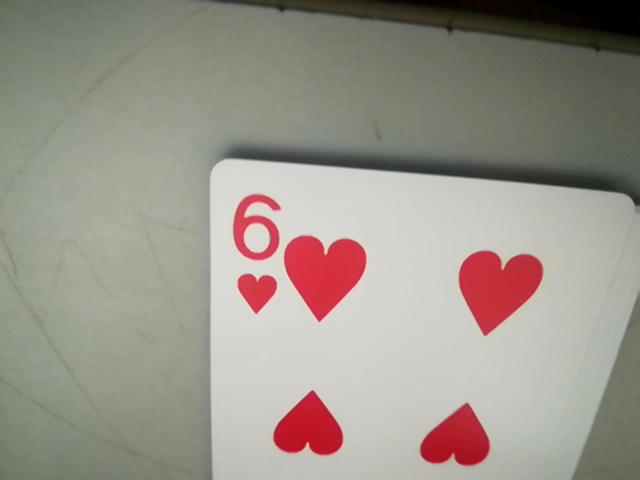hx 6: (225, 195, 281, 315)
